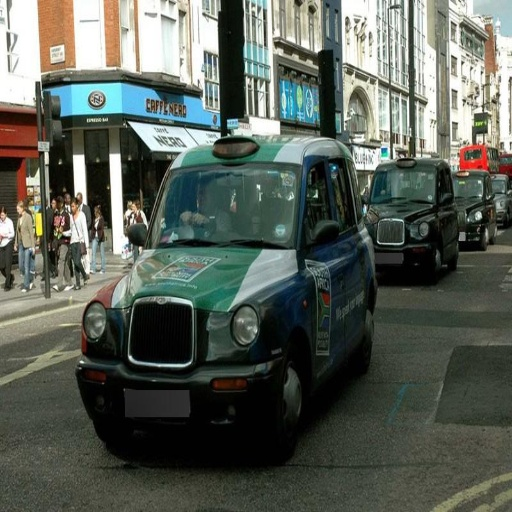front_bumper: (78, 288, 281, 419)
front_glass: (147, 144, 300, 247)
front_left_door: (300, 156, 348, 356)
